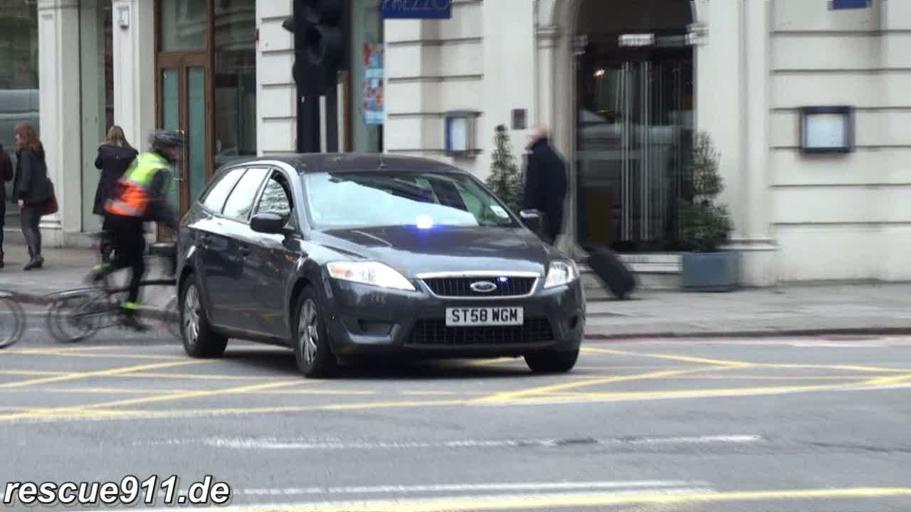non-vehicle: (46, 230, 182, 342), (0, 290, 26, 348)
